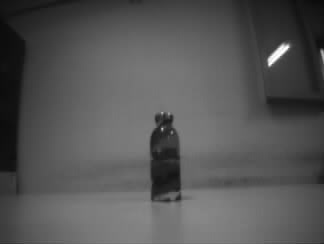Bottle: (149, 112, 182, 202)
